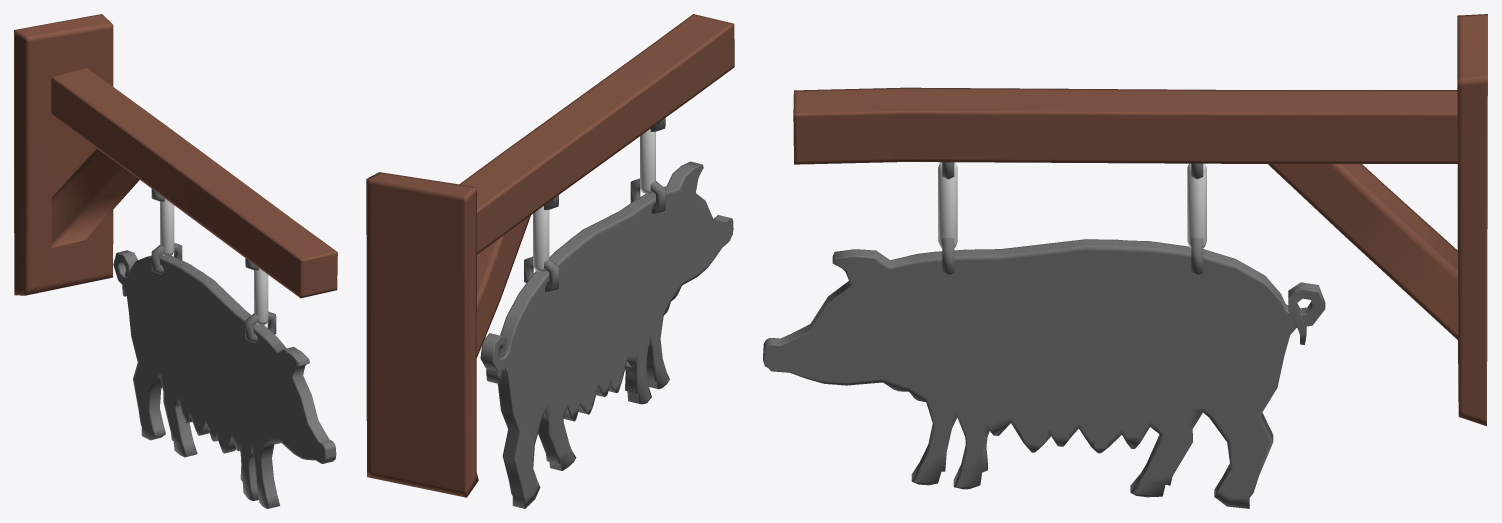
The model's file is Butcher Sign.fbx.
3 renders of one model, left to right at view 1: azimuth 30°, elevation 25°; view 2: azimuth 150°, elevation 25°; view 3: azimuth 270°, elevation 25°, orthographic. The views are drawn at different scales.
Parts seen in each view (by area): view 1: Mount, Piggie Sign, Rope, Rings; view 2: Mount, Piggie Sign, Rope, Rings; view 3: Piggie Sign, Mount, Rope, Rings.
Boxes of the visible parts, x1,y1,x2,y2 form: Mount: (14, 14, 337, 298); Piggie Sign: (113, 250, 336, 508); Rope: (160, 198, 268, 325); Rings: (151, 189, 276, 343); Mount: (366, 14, 734, 497); Piggie Sign: (480, 161, 733, 508); Rope: (533, 129, 655, 271); Rings: (524, 118, 665, 292); Piggie Sign: (763, 239, 1325, 508); Mount: (793, 14, 1487, 426); Rope: (938, 162, 1206, 248); Rings: (942, 162, 1203, 275).
Size of the model in its own units: 113 by 21.01 by 79.49.
